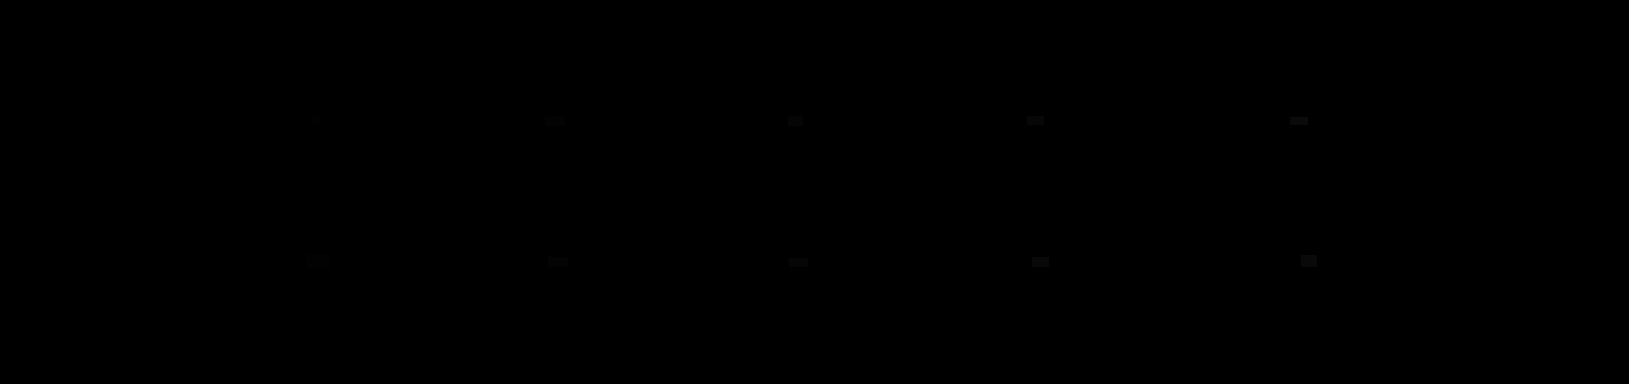light: (308, 254, 330, 268), (548, 257, 568, 267), (1301, 255, 1317, 267), (545, 116, 565, 126), (1032, 257, 1049, 267), (789, 258, 808, 267), (306, 115, 322, 125), (787, 116, 803, 126), (1027, 116, 1044, 125), (1290, 117, 1308, 125)
